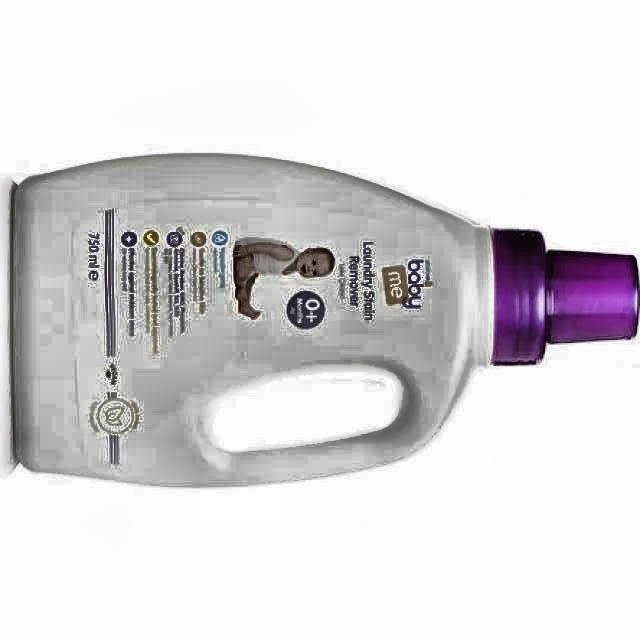plastic: (11, 155, 639, 486)
